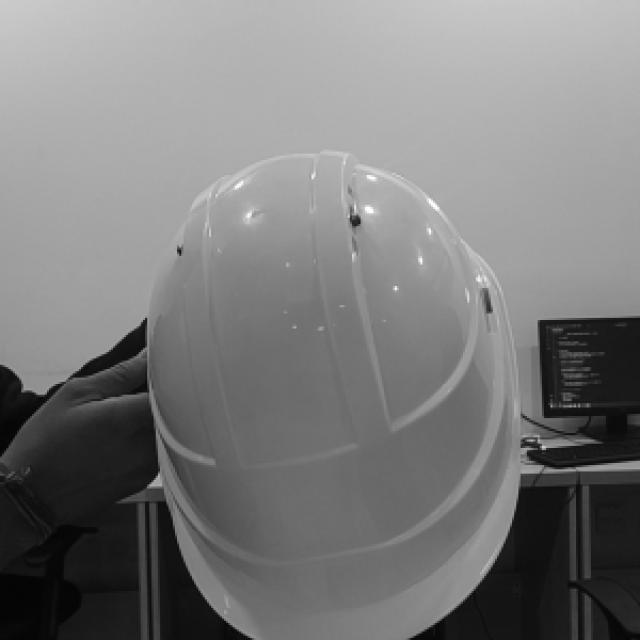safety_helmet: (147, 152, 518, 639)
